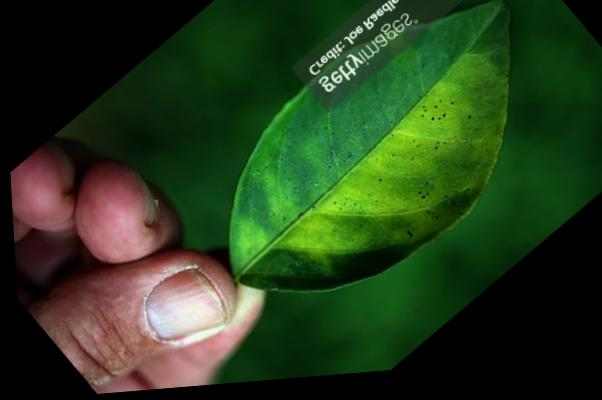Citrus Greening: (154, 0, 602, 372)
